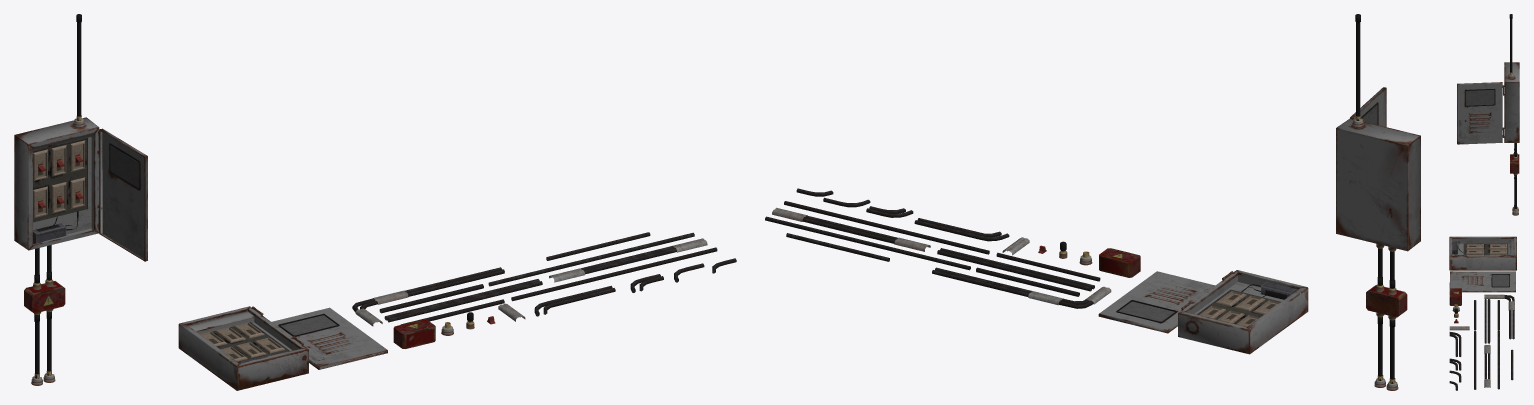
The model's file is garage-distribution-box.glb.
The picture shows the model from 3 angles, left to right: view 1: azimuth 30°, elevation 25°; view 2: azimuth 150°, elevation 25°; view 3: azimuth 270°, elevation 25°; orthographic projection. The views are drawn at different scales.
Visible parts, largest first — view 1: SM_DBox_Full_001_MAT_DBox_001_0, SM_Distribution_Box_Body, SM_Distribution_Box_Door, SM_Wire_Set_001, SM_Wire_Set_002, SM_Wire_Set_003, SM_Distribution_Box_Compensator, SM_Wire_Line_001, SM_Wire_Line_002, SM_Wire_Angle_001; view 2: SM_DBox_Full_001_MAT_DBox_001_0, SM_Distribution_Box_Body, SM_Distribution_Box_Door, SM_Wire_Set_001, SM_Wire_Set_002, SM_Wire_Set_003, SM_Wire_Line_002, SM_Wire_Line_001, SM_Distribution_Box_Compensator, SM_Wire_Angle_001, SM_Distribution_Box_Wire_001; view 3: SM_DBox_Full_001_MAT_DBox_001_0, SM_Distribution_Box_Body, SM_Distribution_Box_Door, SM_Wire_Set_001, SM_Wire_Set_003, SM_Wire_Set_002, SM_Distribution_Box_Compensator, SM_Wire_Line_002, SM_Wire_Line_001, SM_Wire_Angle_001, SM_Wire_Holder, SM_Wire_Angle_002 (+3 smaller).
Part boxes in pixels (box(x1,y1,x2,y2)): SM_DBox_Full_001_MAT_DBox_001_0: box(14, 14, 147, 385); SM_Distribution_Box_Body: box(178, 306, 308, 390); SM_Distribution_Box_Door: box(272, 307, 387, 369); SM_Wire_Set_001: box(352, 267, 504, 326); SM_Wire_Set_002: box(549, 238, 707, 282); SM_Wire_Set_003: box(384, 279, 542, 322); SM_Distribution_Box_Compensator: box(393, 319, 435, 348); SM_Wire_Line_001: box(511, 247, 717, 301); SM_Wire_Line_002: box(488, 232, 694, 286); SM_Wire_Angle_001: box(534, 285, 615, 316); SM_DBox_Full_001_MAT_DBox_001_0: box(1336, 14, 1420, 390); SM_Distribution_Box_Body: box(1178, 270, 1308, 354); SM_Distribution_Box_Door: box(1098, 271, 1214, 333); SM_Wire_Set_001: box(932, 267, 1111, 308); SM_Wire_Set_002: box(772, 207, 930, 251); SM_Wire_Set_003: box(937, 248, 1094, 291); SM_Wire_Line_002: box(765, 216, 970, 270); SM_Wire_Line_001: box(784, 201, 989, 254); SM_Distribution_Box_Compensator: box(1099, 248, 1140, 277); SM_Wire_Angle_001: box(914, 218, 1009, 241); SM_Distribution_Box_Wire_001: box(976, 267, 1079, 296); SM_DBox_Full_001_MAT_DBox_001_0: box(1457, 14, 1519, 215); SM_Distribution_Box_Body: box(1449, 236, 1516, 270); SM_Distribution_Box_Door: box(1449, 271, 1515, 292); SM_Wire_Set_001: box(1484, 294, 1514, 339); SM_Wire_Set_003: box(1484, 299, 1490, 343); SM_Wire_Set_002: box(1484, 344, 1490, 387); SM_Distribution_Box_Compensator: box(1449, 288, 1461, 305); SM_Wire_Line_002: box(1497, 330, 1499, 389); SM_Wire_Line_001: box(1474, 331, 1476, 389); SM_Wire_Angle_001: box(1449, 332, 1461, 356); SM_Wire_Holder: box(1449, 326, 1469, 330); SM_Wire_Angle_002: box(1449, 358, 1461, 370).
Size of the model in its own units: 3.96 by 2.06 by 0.6355.
2 materials, 2 textured.
